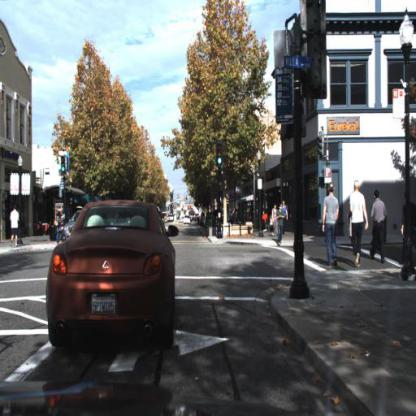car: (43, 193, 182, 352), (184, 214, 193, 228)
pedestrian: (323, 175, 345, 274), (349, 172, 369, 272), (370, 183, 391, 271), (399, 192, 416, 284), (10, 205, 21, 251), (54, 207, 66, 243), (276, 203, 286, 243), (281, 202, 290, 233), (271, 205, 279, 236)
trafficLight: (217, 142, 225, 170), (59, 156, 66, 178)
